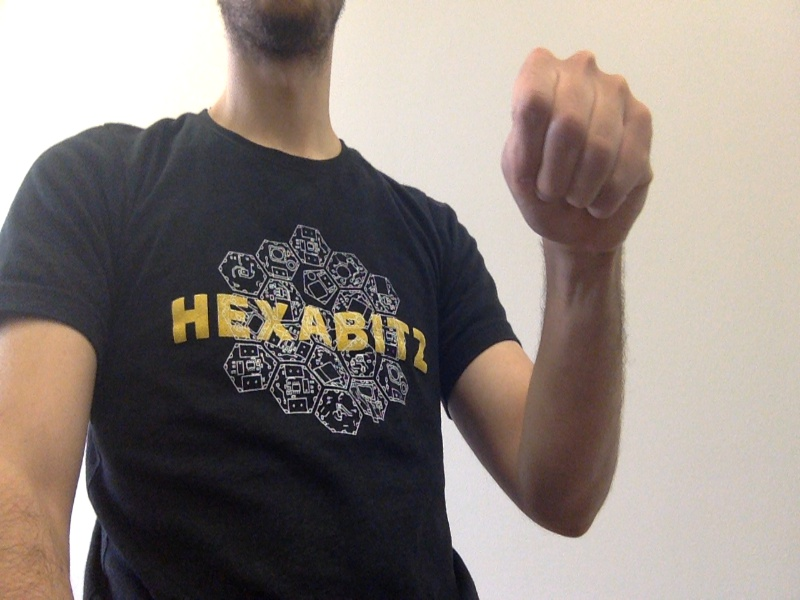0-hand: (504, 47, 655, 252)
